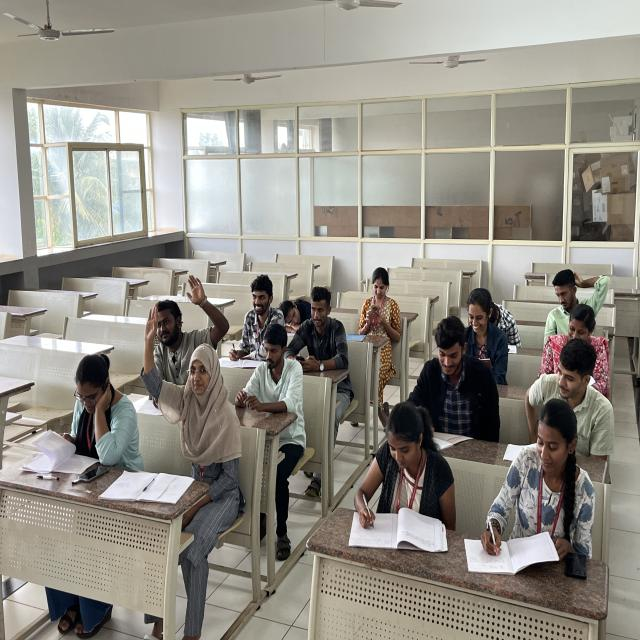Hand Rising: (140, 304, 242, 470), (134, 272, 222, 378)
Reading: (29, 352, 134, 471)
Using Phone: (288, 284, 348, 372), (356, 265, 406, 342)
Writing: (472, 406, 590, 574), (342, 404, 452, 540), (225, 276, 282, 368)
